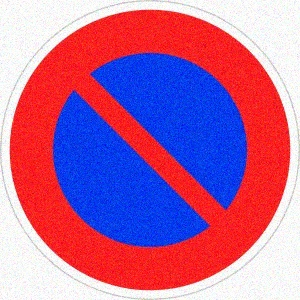Prohibition_sign: (1, 1, 300, 299)
